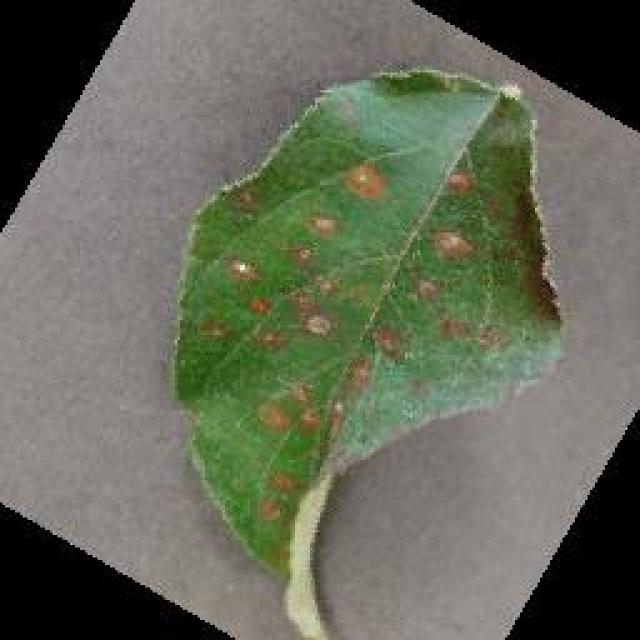apple cedar apple rust: (167, 62, 565, 638)
